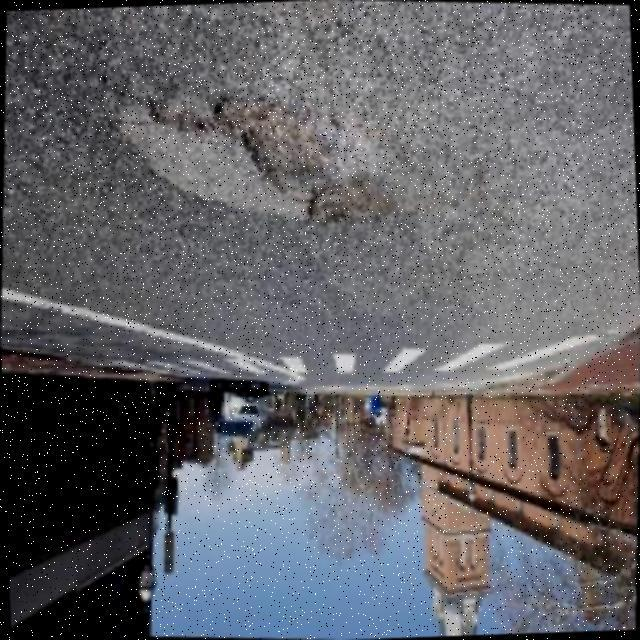Pothole: (157, 95, 398, 221)
